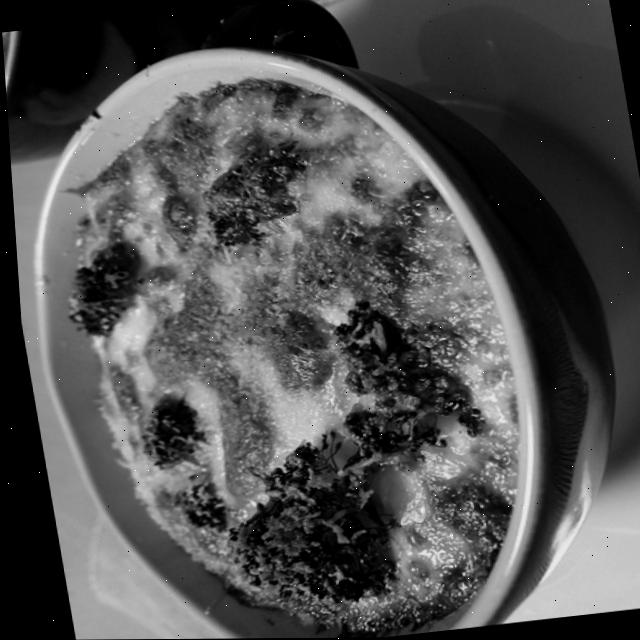米饭主食: (12, 43, 582, 640)
